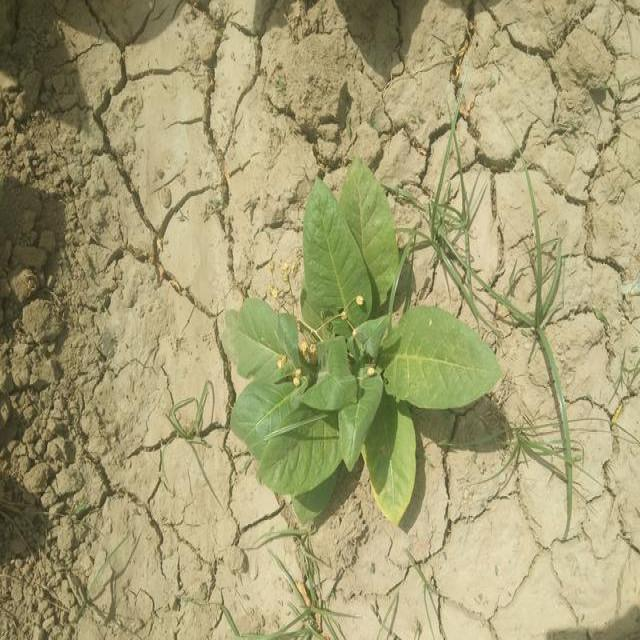crop: (222, 171, 500, 508)
